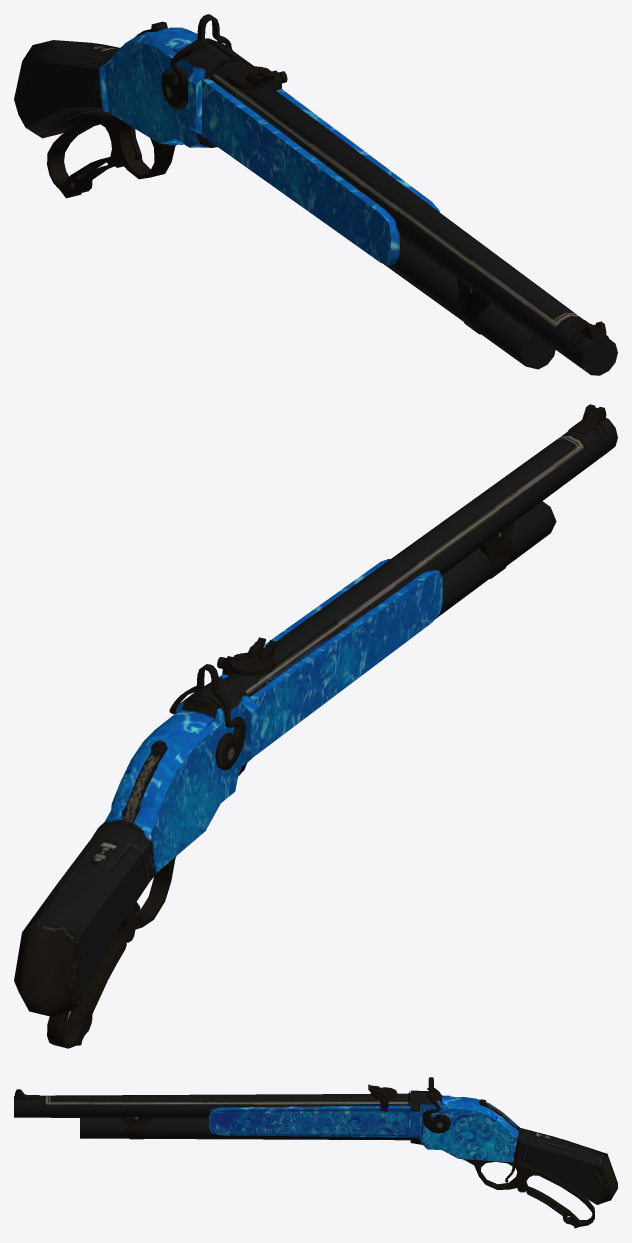
The model's file is Shotgun_sdq_02_WaterSplashing_Skin_Body_Main_(000199).glb.
The picture shows the model from 3 angles, top to bottom: view 1: azimuth 30°, elevation 25°; view 2: azimuth 150°, elevation 25°; view 3: azimuth 270°, elevation 25°; orthographic projection. The views are drawn at different scales.
Visible parts, largest first — view 1: sdq_02; view 2: sdq_02; view 3: sdq_02.
Part boxes in pixels (box(x1,y1,x2,y2)): sdq_02: box(14, 14, 617, 375); sdq_02: box(14, 404, 617, 1048); sdq_02: box(14, 1077, 617, 1228).
Size of the model in its own units: 0.0926 by 0.3864 by 1.42.
1 material, 1 textured.
